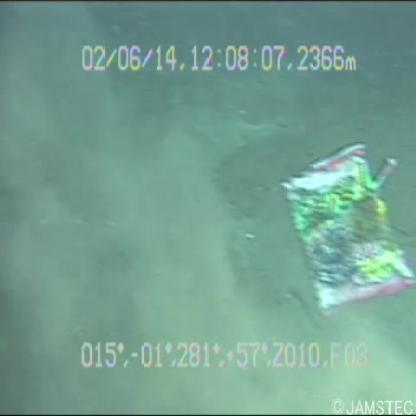Rác: (264, 115, 415, 316)
